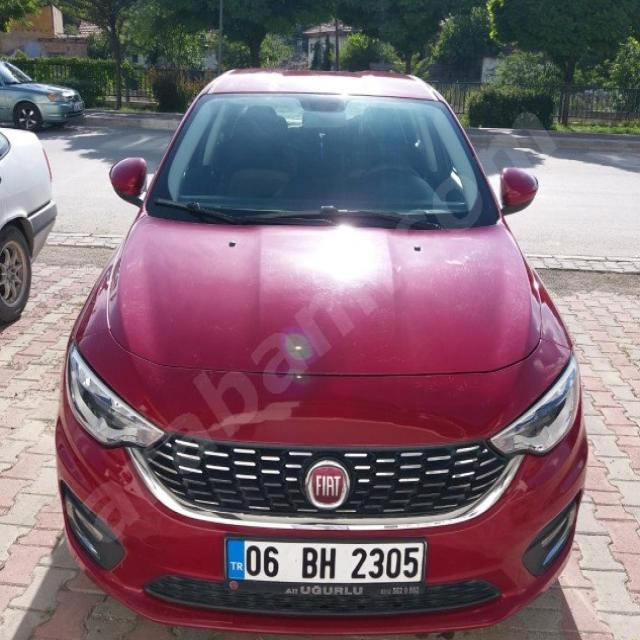license_plate: (225, 538, 424, 582)
